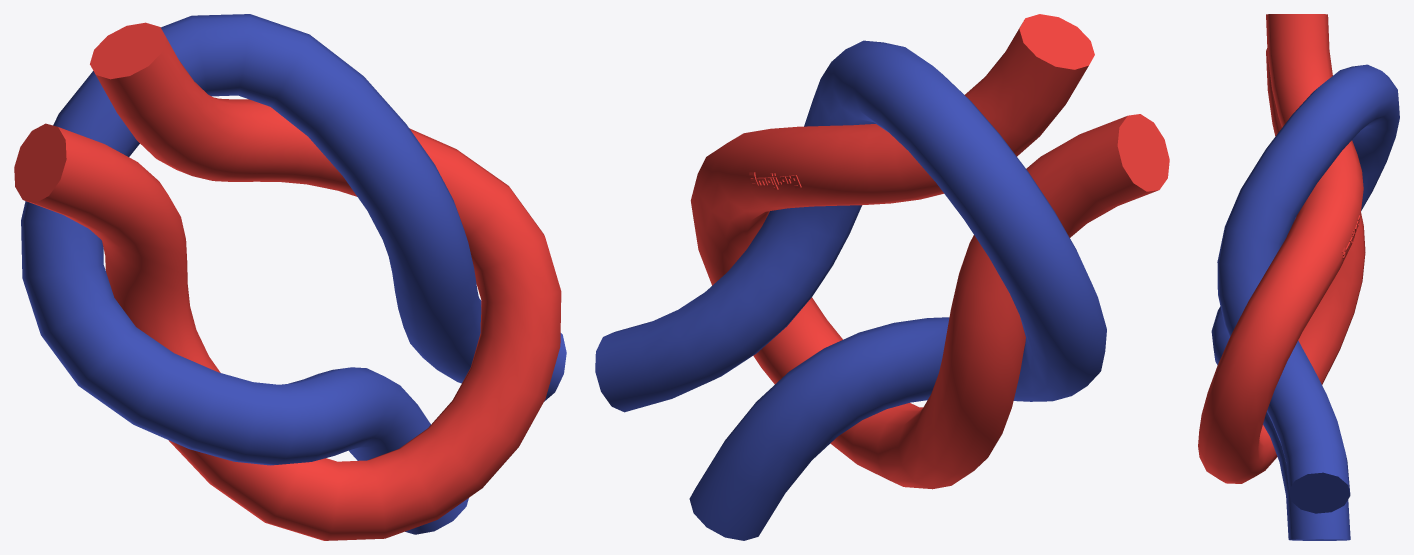
File: knot.fbx
3 renders of one model, left to right at view 1: azimuth 30°, elevation 25°; view 2: azimuth 150°, elevation 25°; view 3: azimuth 270°, elevation 25°, orthographic. The views are drawn at different scales.
Visible parts, largest first — view 1: BezierCurve.005; view 2: BezierCurve.005; view 3: BezierCurve.005.
Part boxes in pixels (<box>): BezierCurve.005: <box>14,14,566,540</box>; BezierCurve.005: <box>595,14,1169,540</box>; BezierCurve.005: <box>1198,14,1399,540</box>.
Bounding box in the file's own units: 233 × 235 × 99.1.
Materials: 1 (1 with a texture image).
